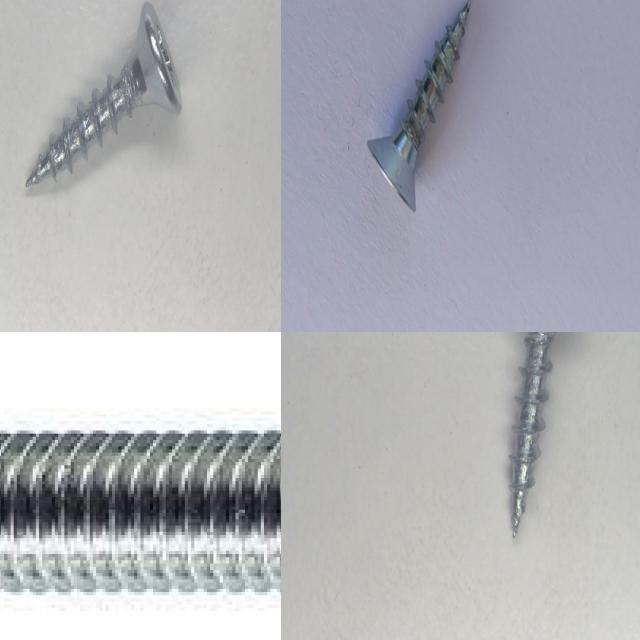Screw: (0, 431, 281, 598), (25, 0, 182, 185), (367, 0, 470, 211), (510, 332, 555, 532)
